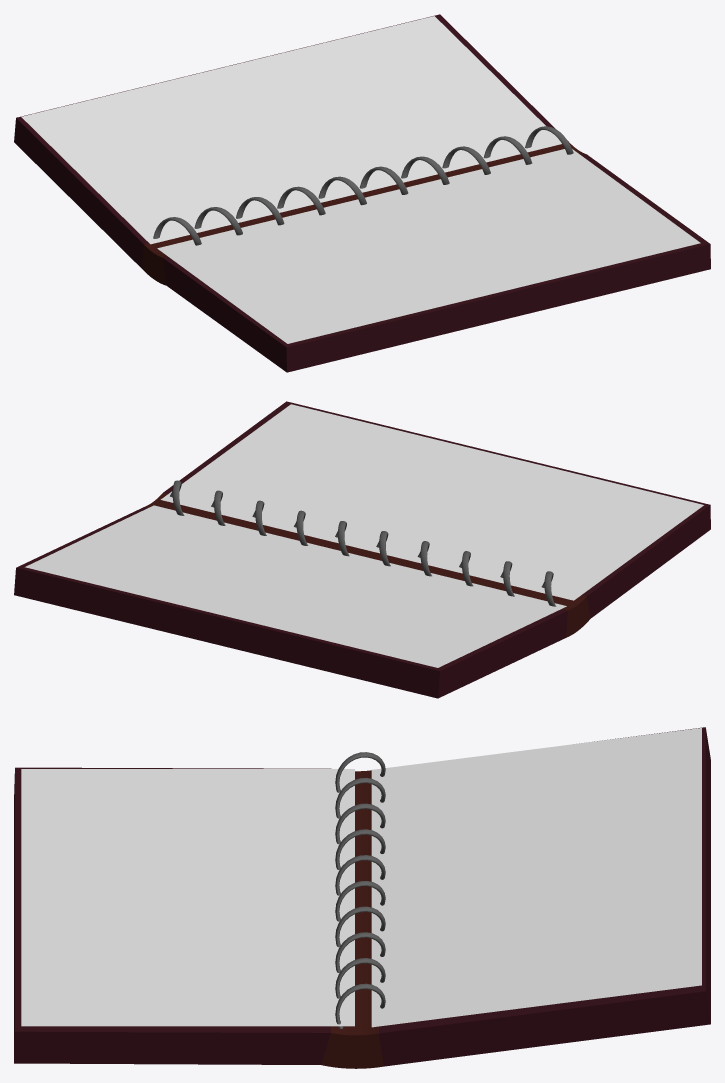
The model's file is main_kitap.fbx.
The picture shows the model from 3 angles, top to bottom: view 1: azimuth 30°, elevation 25°; view 2: azimuth 150°, elevation 25°; view 3: azimuth 270°, elevation 25°; orthographic projection. The views are drawn at different scales.
Visible parts, largest first — view 1: Plane.001, Plane, Cube, Spiral.001; view 2: Plane, Plane.001, Cube, Spiral.001; view 3: Plane, Plane.001, Cube, Spiral.001.
Part boxes in pixels (box(x1,y1,x2,y2)): Plane.001: box(21, 16, 561, 244); Plane: box(157, 149, 700, 343); Cube: box(14, 14, 710, 372); Spiral.001: box(153, 126, 573, 245); Plane: box(160, 404, 703, 600); Plane.001: box(25, 505, 566, 667); Cube: box(14, 401, 710, 698); Spiral.001: box(170, 480, 556, 606); Plane: box(21, 769, 354, 1026); Plane.001: box(371, 728, 701, 1027); Cube: box(14, 727, 710, 1068); Spiral.001: box(335, 752, 385, 1028).
Size of the model in its own units: 580 by 80.85 by 646.
